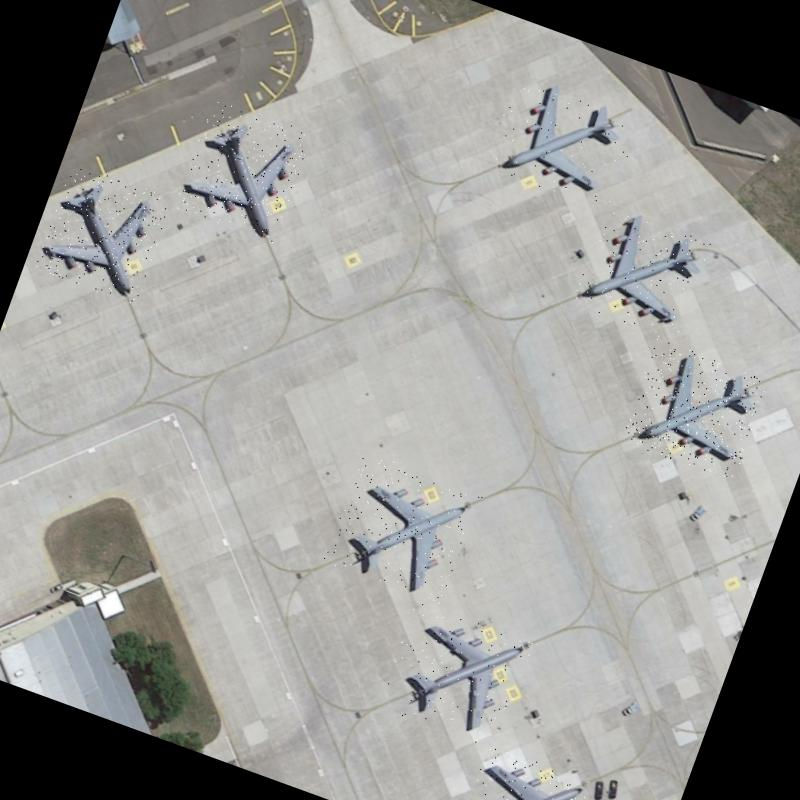A14: (322, 450, 483, 606), (376, 598, 534, 750), (620, 338, 770, 482), (484, 74, 640, 212), (173, 97, 313, 243), (33, 162, 173, 306), (570, 204, 710, 342), (451, 743, 592, 800)
